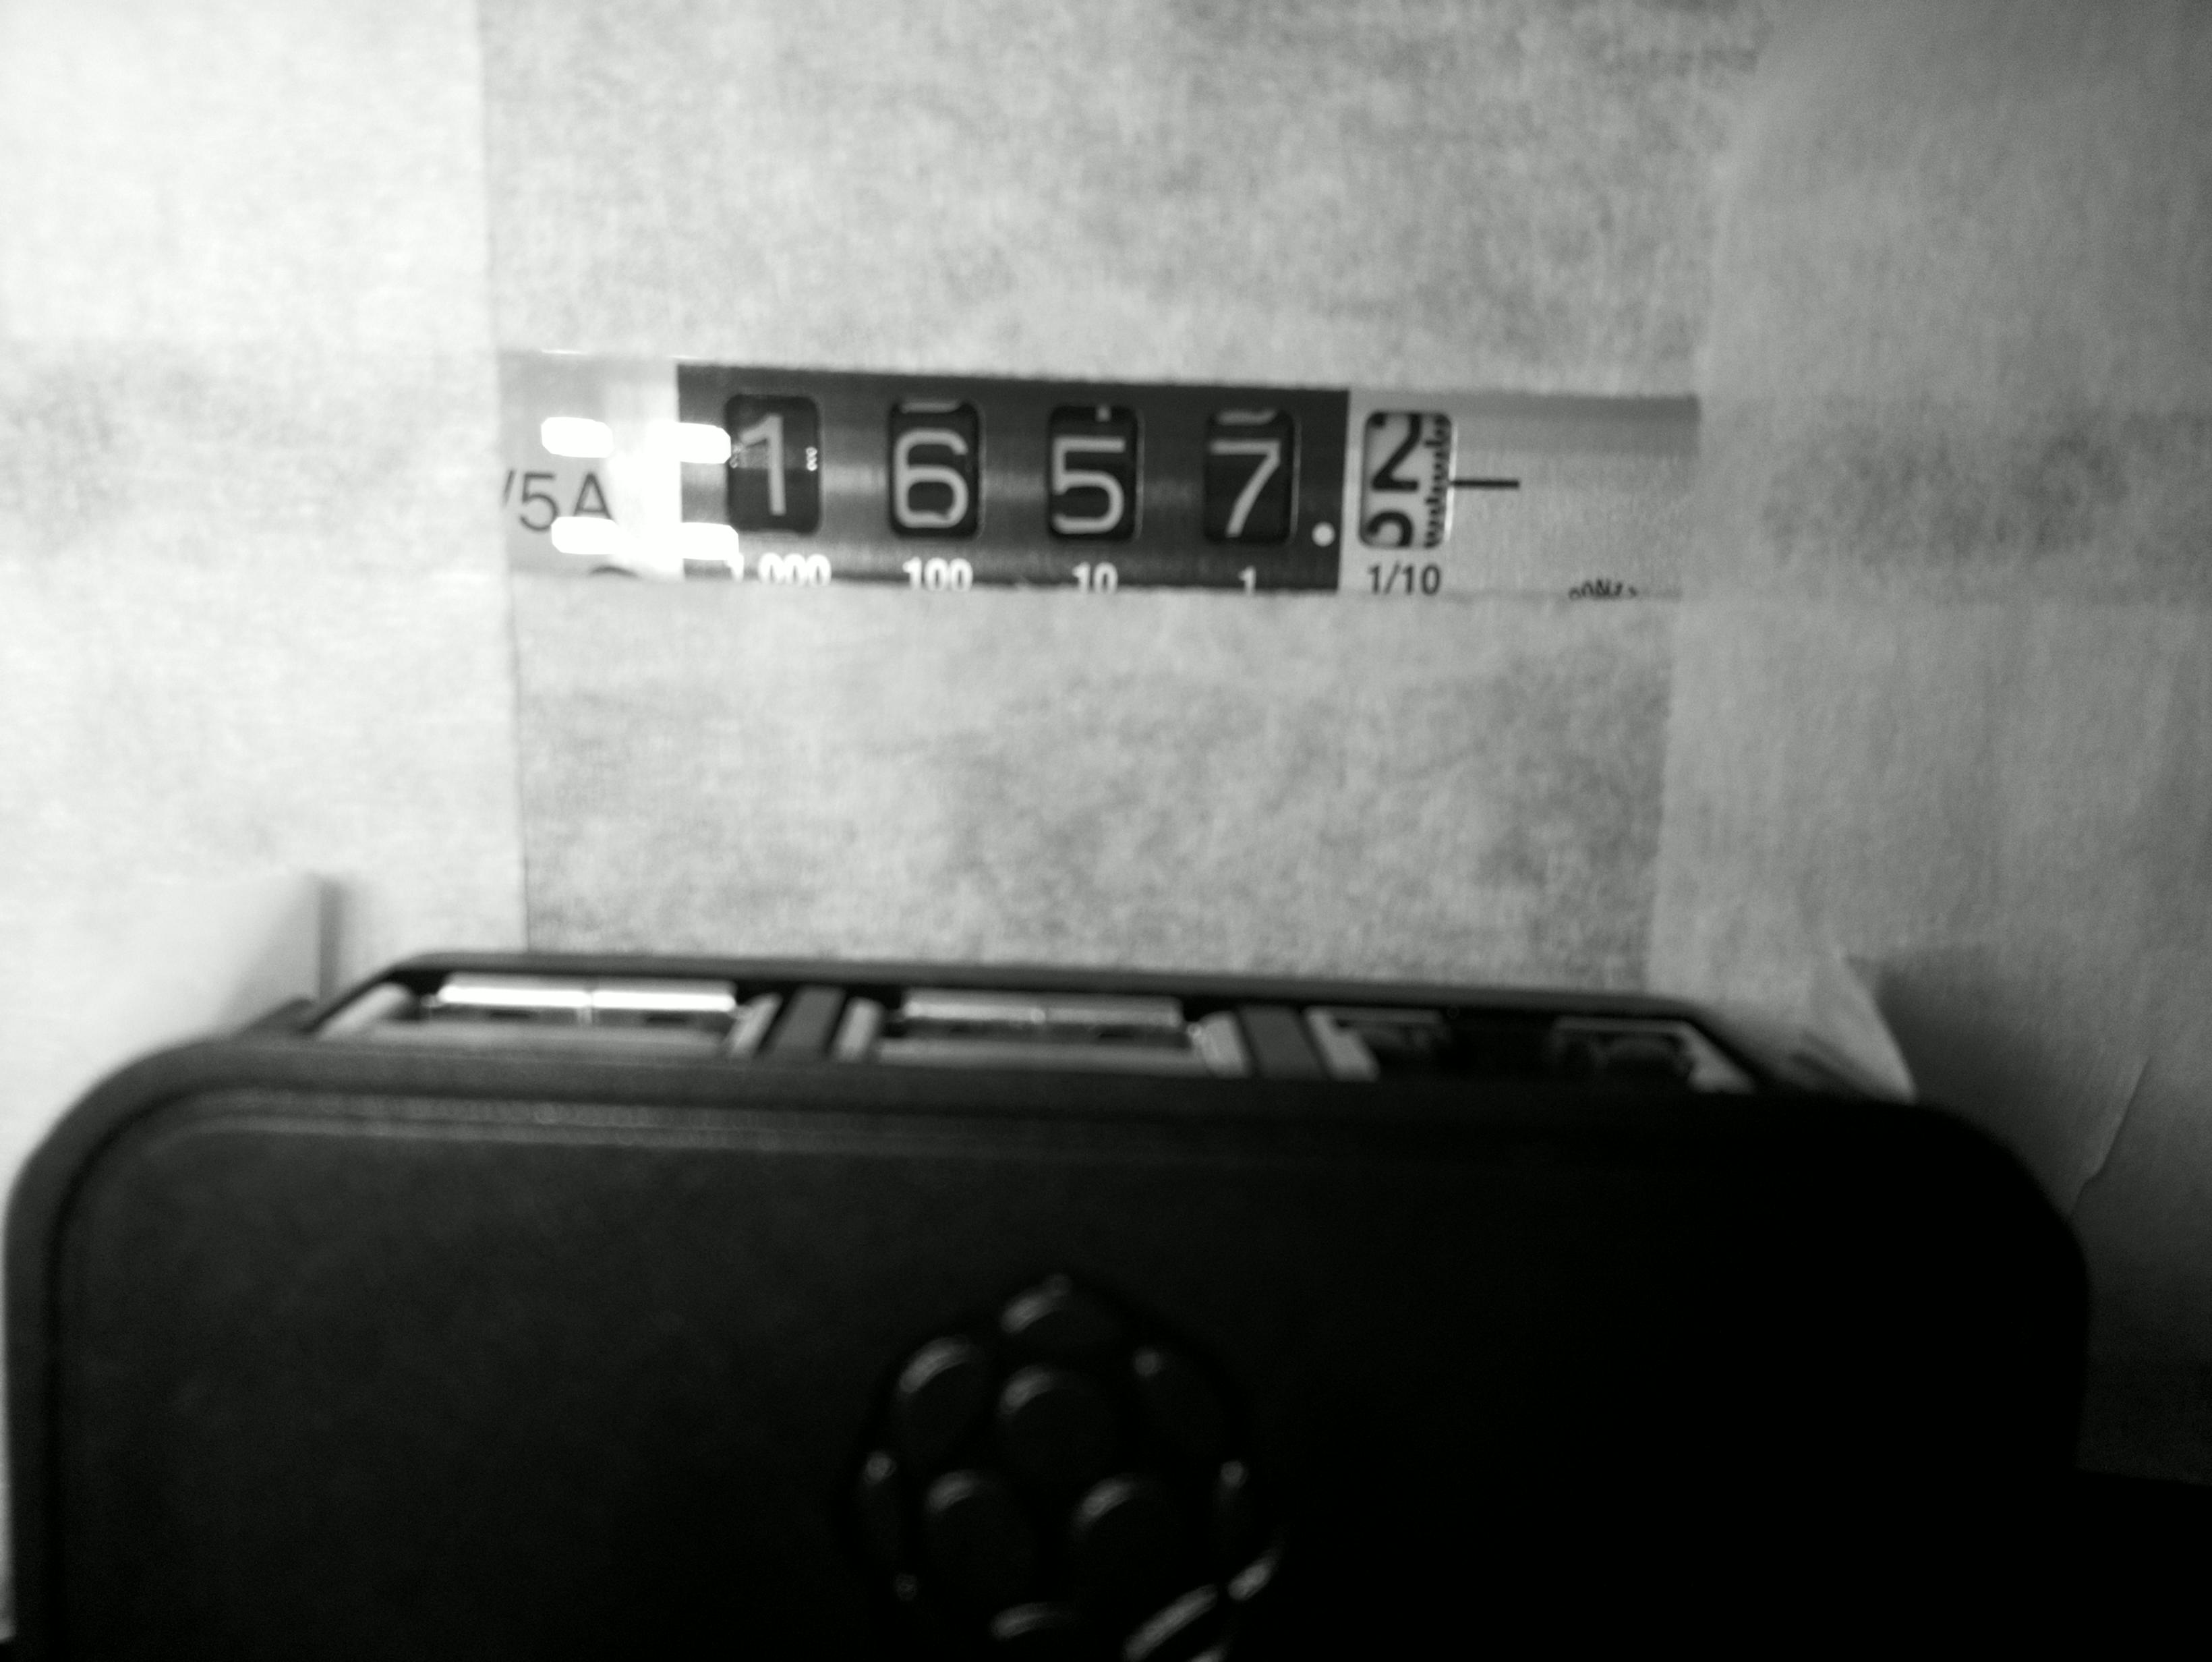meter_box: (709, 333, 1503, 637)
